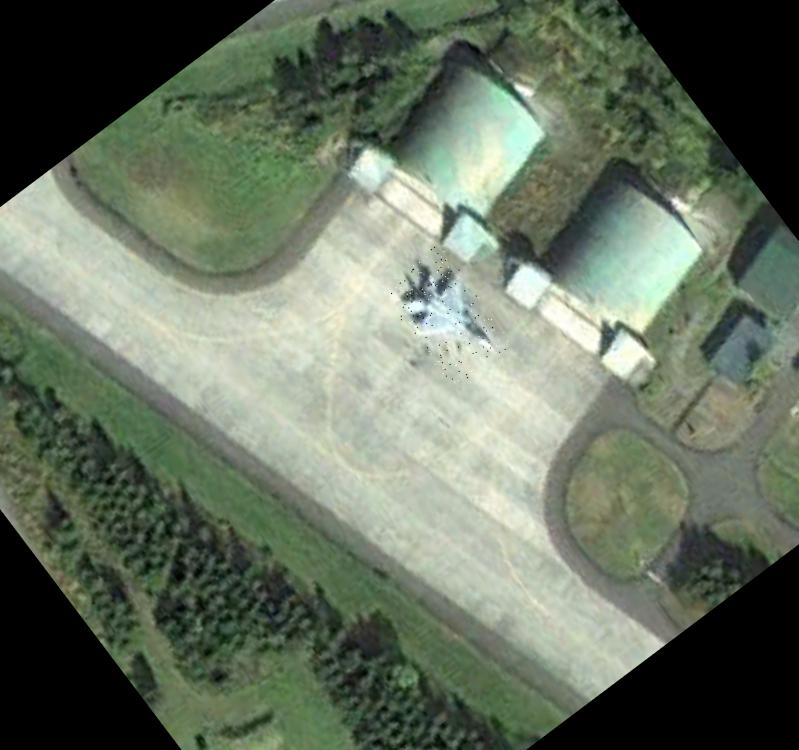A13: (378, 241, 514, 388)
